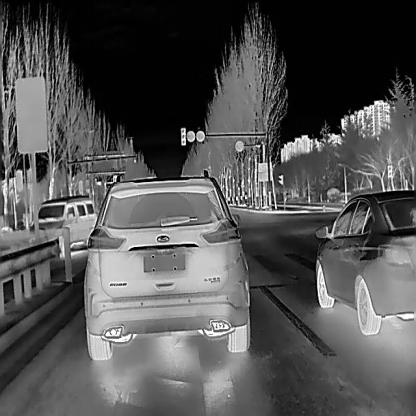car: (82, 168, 250, 359), (314, 186, 416, 335), (25, 193, 94, 256)
